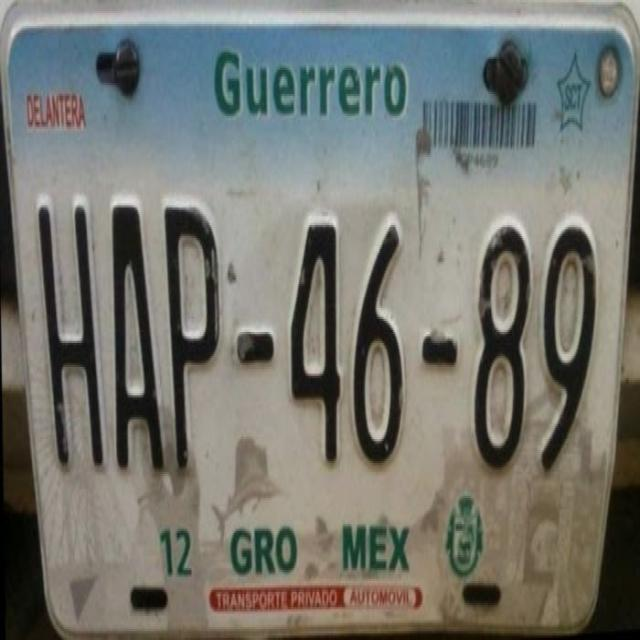placa: (12, 173, 612, 492)
